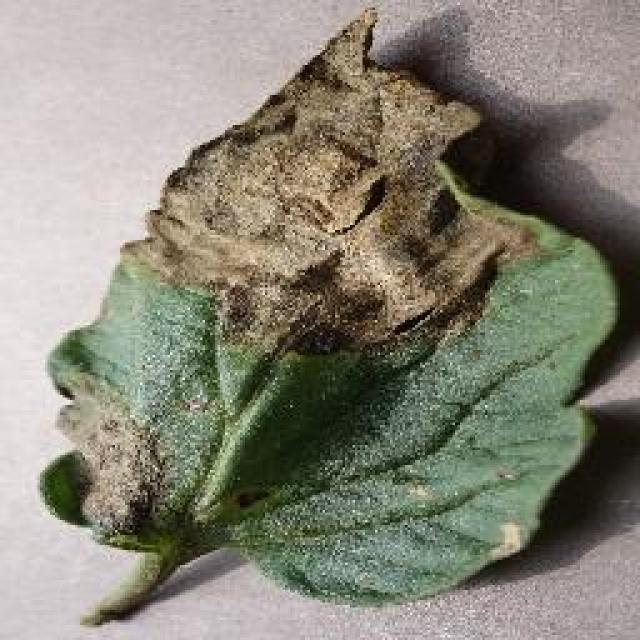Tomato Late Blight: (58, 43, 490, 587)
